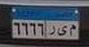6: (29, 21, 36, 37), (21, 21, 28, 36), (37, 23, 44, 37), (13, 22, 20, 36)
meem: (69, 23, 76, 38)
raa: (47, 24, 56, 37)
yaa: (57, 24, 67, 37)
